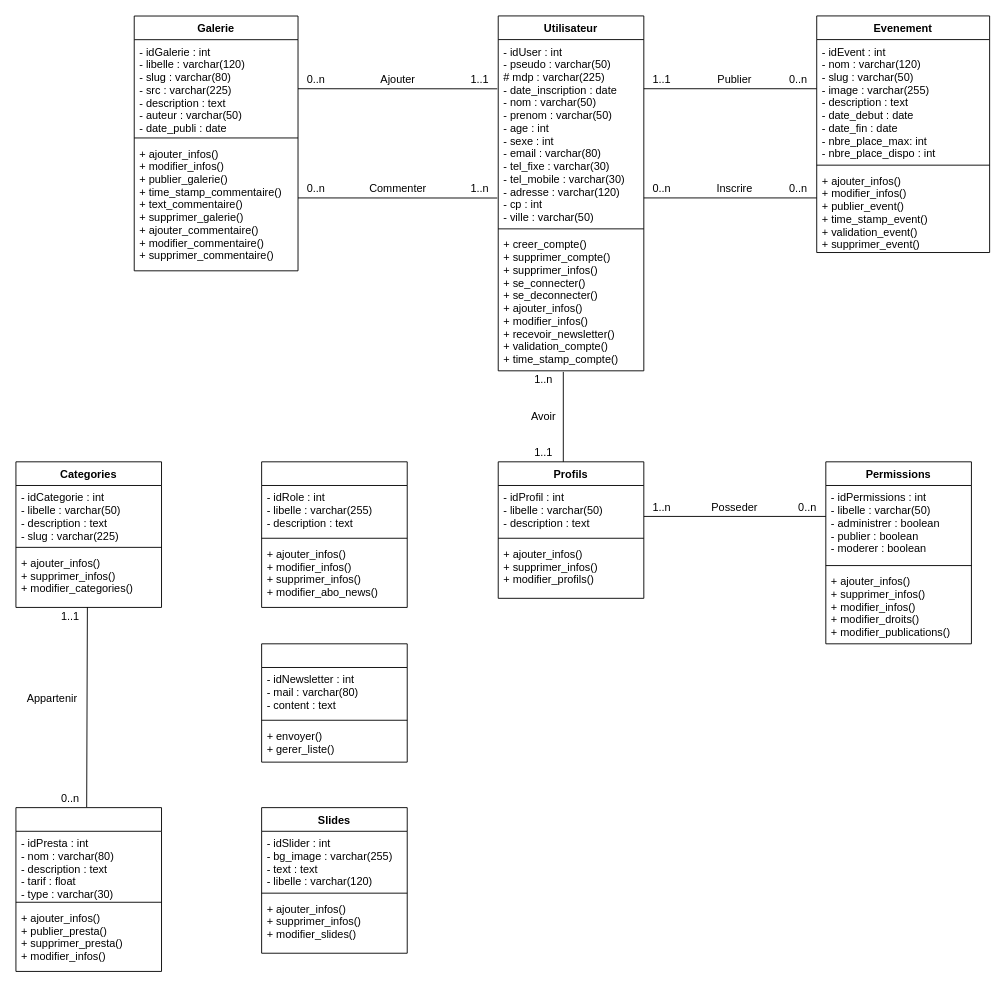
The diagram is 1006 pixels wide and 990 high, and some of its shapes have lost their labels. Here are the shapes that lost their labels. From the top down, the box of each, then its label:
(261, 461, 407, 607): Abonnes_Newsletter
(261, 643, 407, 762): Newsletters
(15, 807, 162, 971): Prestations
